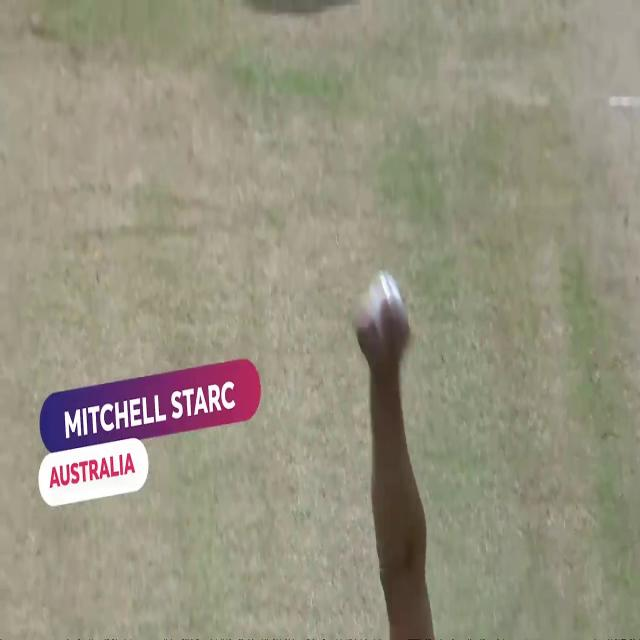ball: (349, 260, 426, 383)
